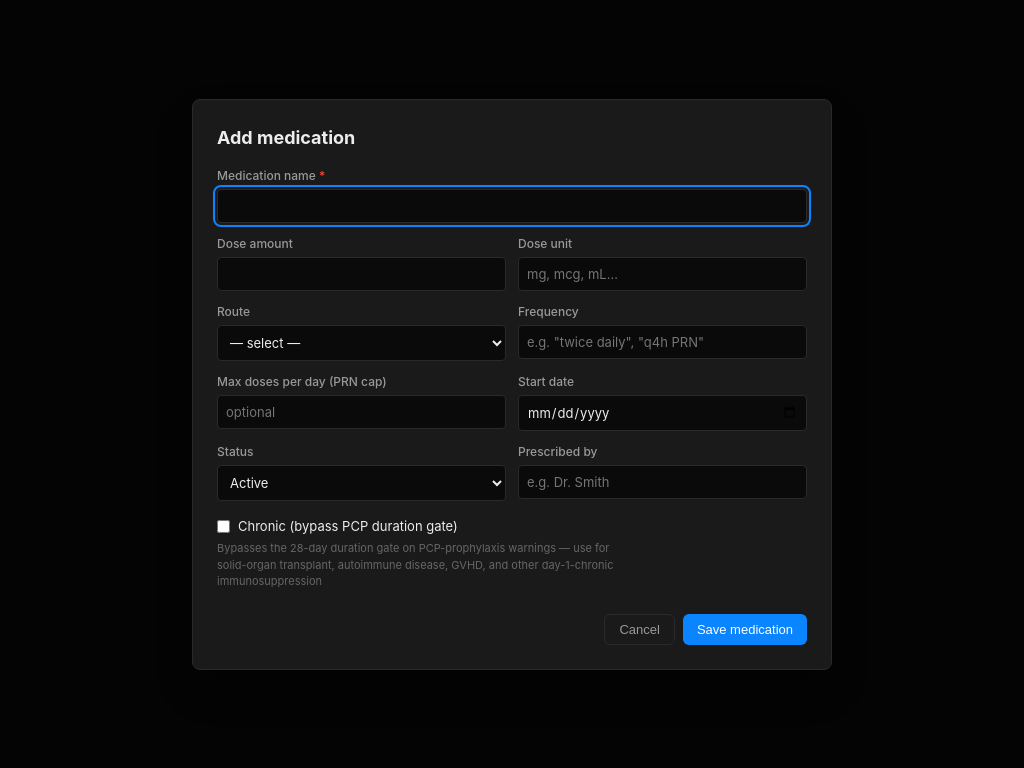
it: PrescriptionForm (create mode) › surfaces non-validation errors via aria-live alert region
Type "Aspirin" into the field labelled "Medication name *".
click(512, 206); type("Aspirin")  # box [217,188,807,222]
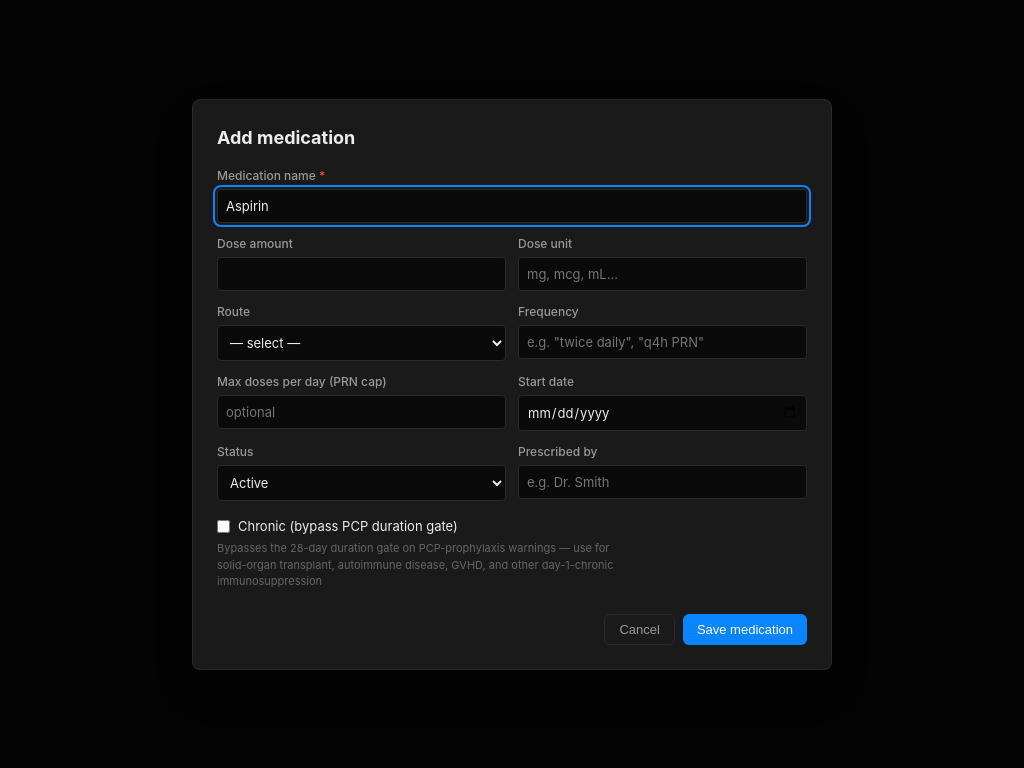
Click the button "Save medication".
click(745, 629)  # box [683,614,807,644]
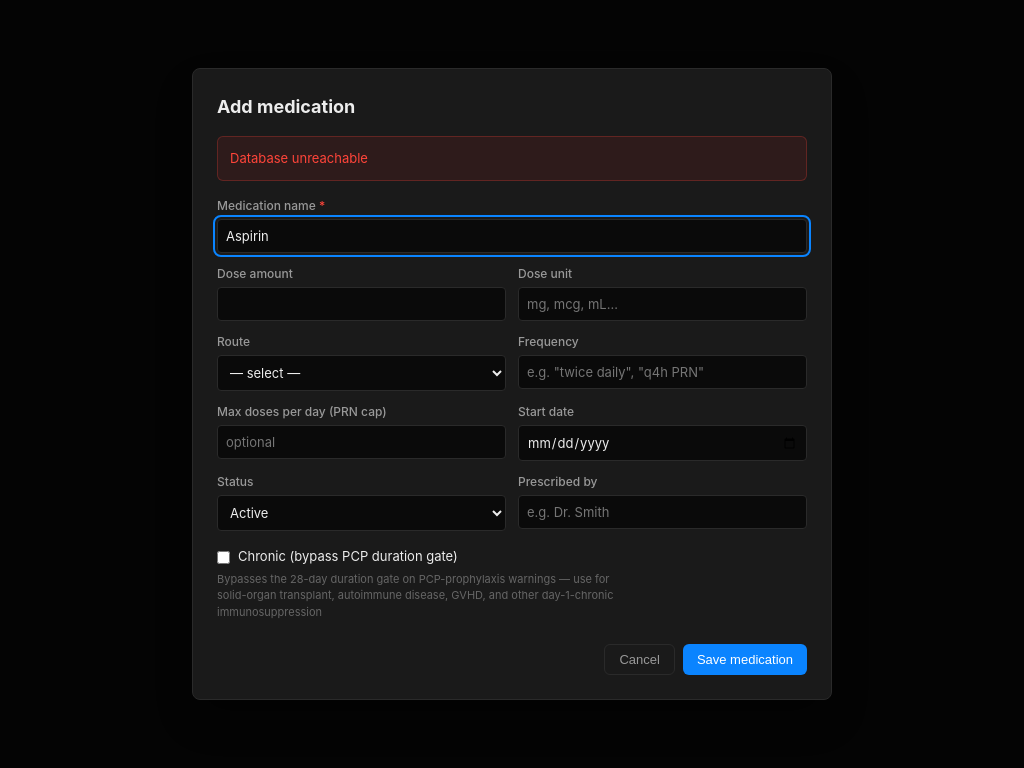
Check: the message reads "Database unreachable", box [230,150,368,166]
